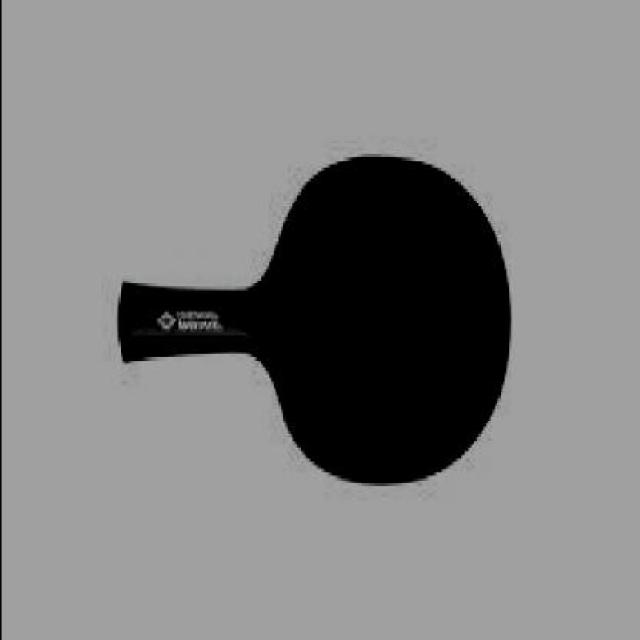table_tennis_racket: (268, 156, 514, 496)
